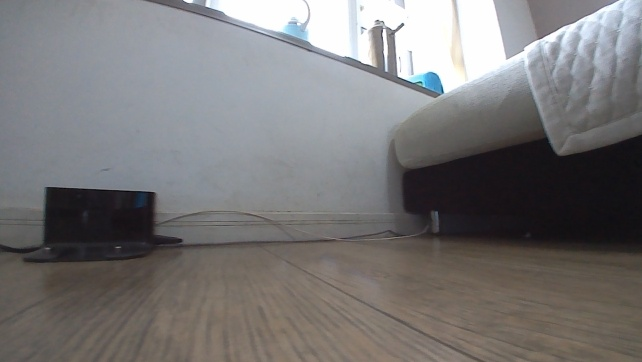charger: (20, 185, 158, 263)
sofa1: (388, 0, 641, 240)
wire: (150, 208, 431, 249), (0, 242, 45, 254)
